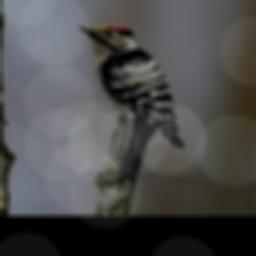Woodpecker: (78, 24, 185, 181)
